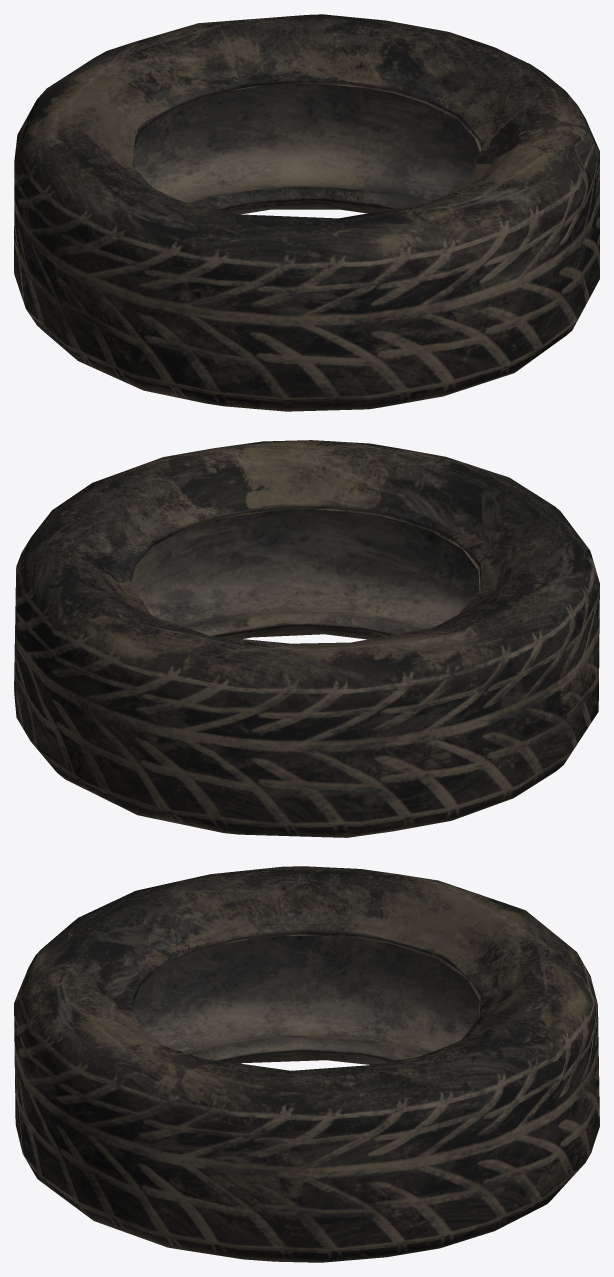
Rendered from SM_Tire_01.fbx.
3 views of the same model, one above another, from view 1: azimuth 30°, elevation 25°; view 2: azimuth 150°, elevation 25°; view 3: azimuth 270°, elevation 25° (orthographic).
Visible parts, largest first — view 1: SM_Tire_01_LOD0; view 2: SM_Tire_01_LOD0; view 3: SM_Tire_01_LOD0.
Boxes of the visible parts, box(x1,y1,x2,y2) form: SM_Tire_01_LOD0: box(14, 14, 599, 411); SM_Tire_01_LOD0: box(14, 440, 599, 837); SM_Tire_01_LOD0: box(14, 866, 599, 1262).
Size of the model in its own units: 70.19 by 70.27 by 24.45.
Materials: 1 (1 with a texture image).
